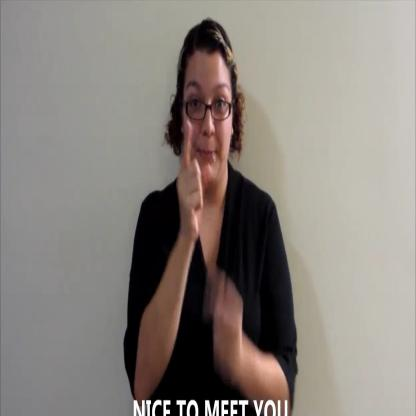NiceToMeetYou: (162, 107, 223, 257)
